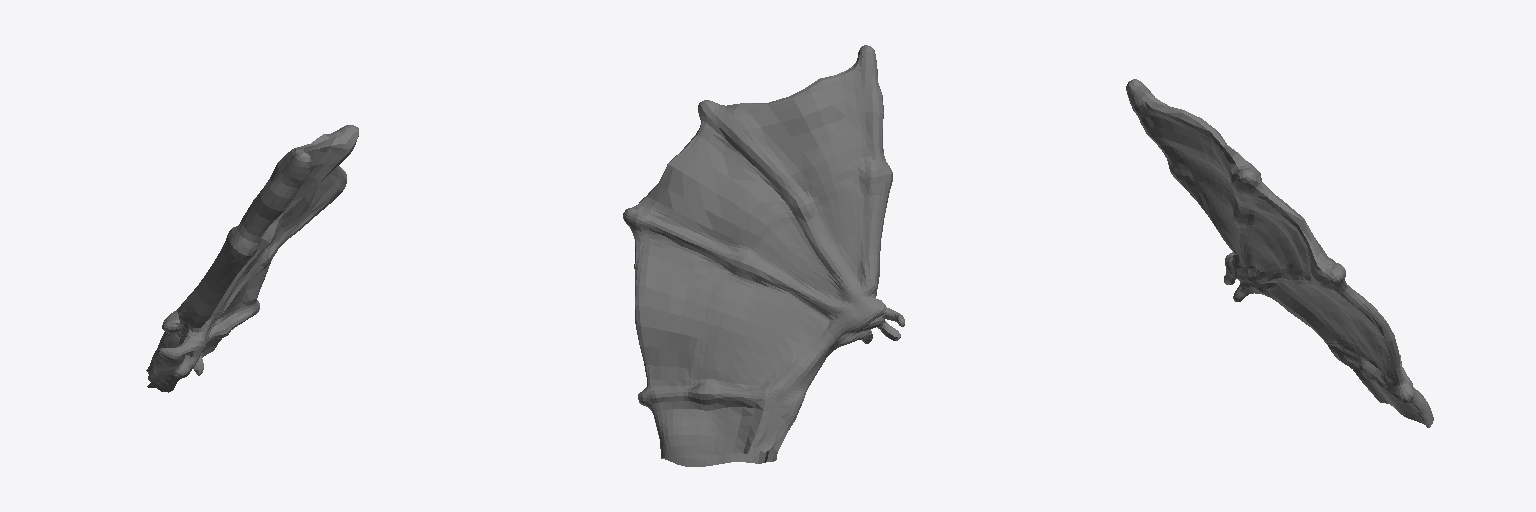
File: Ala1.obj
3 views of the same model, side by side, from view 1: azimuth 30°, elevation 25°; view 2: azimuth 150°, elevation 25°; view 3: azimuth 270°, elevation 25° (orthographic).
Parts seen in each view (by area): view 1: Ala1; view 2: Ala1; view 3: Ala1.
Boxes of the visible parts, <box> form: Ala1: <box>146,125,358,392</box>; Ala1: <box>623,45,904,466</box>; Ala1: <box>1126,79,1433,427</box>.
Bounding box in the file's own units: 6.31 × 8.43 × 7.2.